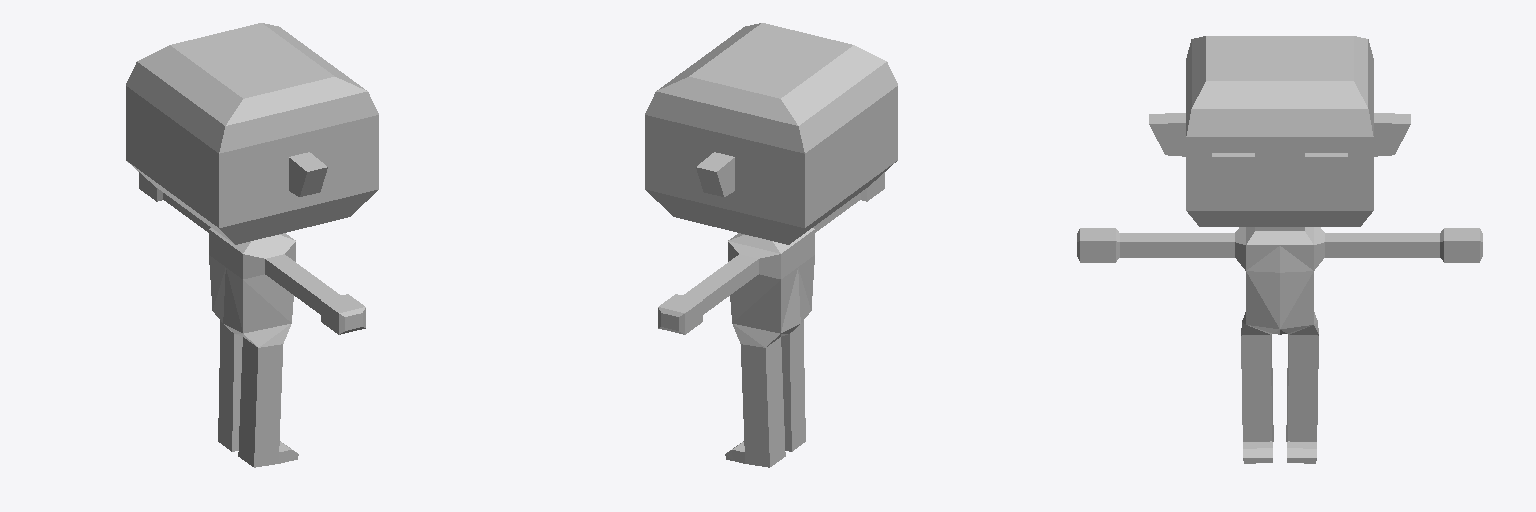
The model's file is Ludzik5.obj.
The picture shows the model from 3 angles: view 1: azimuth 30°, elevation 25°; view 2: azimuth 150°, elevation 25°; view 3: azimuth 270°, elevation 25°; orthographic projection.
Visible parts, largest first — view 1: Cube; view 2: Cube; view 3: Cube.
Part boxes in pixels (left/top/right/bottom): Cube: left=126, top=23, right=378, bottom=467; Cube: left=645, top=23, right=897, bottom=467; Cube: left=1077, top=36, right=1482, bottom=463.
Bounding box in the file's own units: 6.28 × 14.06 × 13.19.